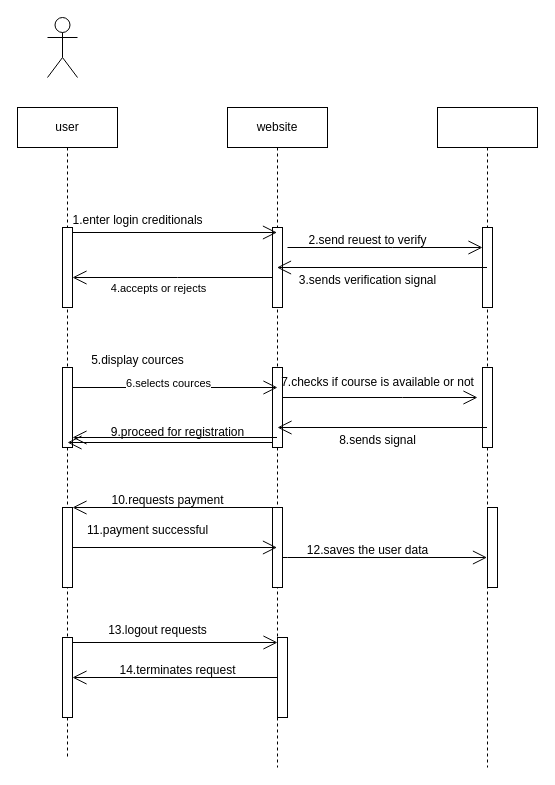
This 555x785 diagram has some shape labels left out. Each missing label, with the centre of its shape:
Actor: pixel 62 47
server: pixel 487 437
